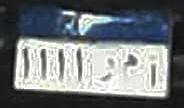1: (21, 46, 32, 80), (38, 48, 48, 80), (56, 49, 65, 83), (76, 48, 84, 83)
alif: (148, 56, 156, 89)
meem: (122, 53, 136, 83)
raa: (95, 57, 119, 85)
